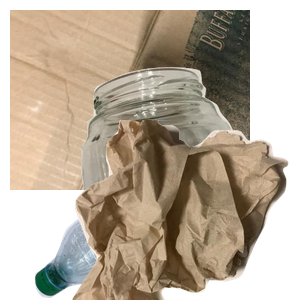cardboard: (10, 10, 250, 190)
glass: (74, 65, 300, 245)
plastic: (32, 154, 242, 300)
trash: (70, 120, 300, 300)
